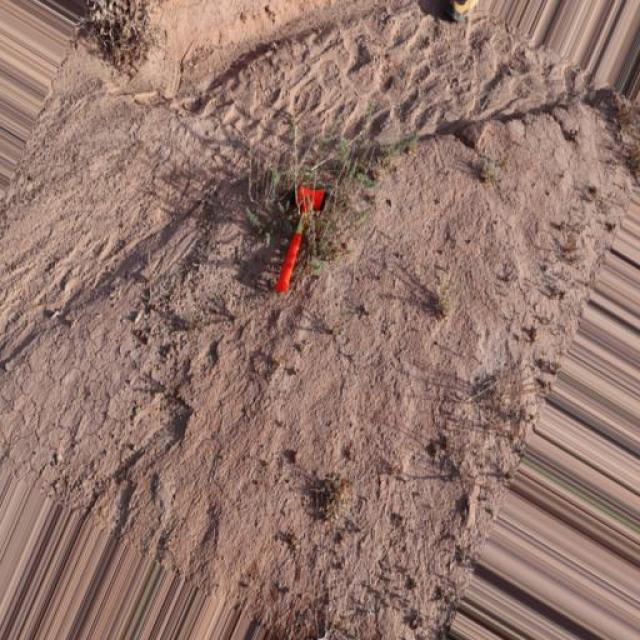mallet: (273, 184, 325, 294)
